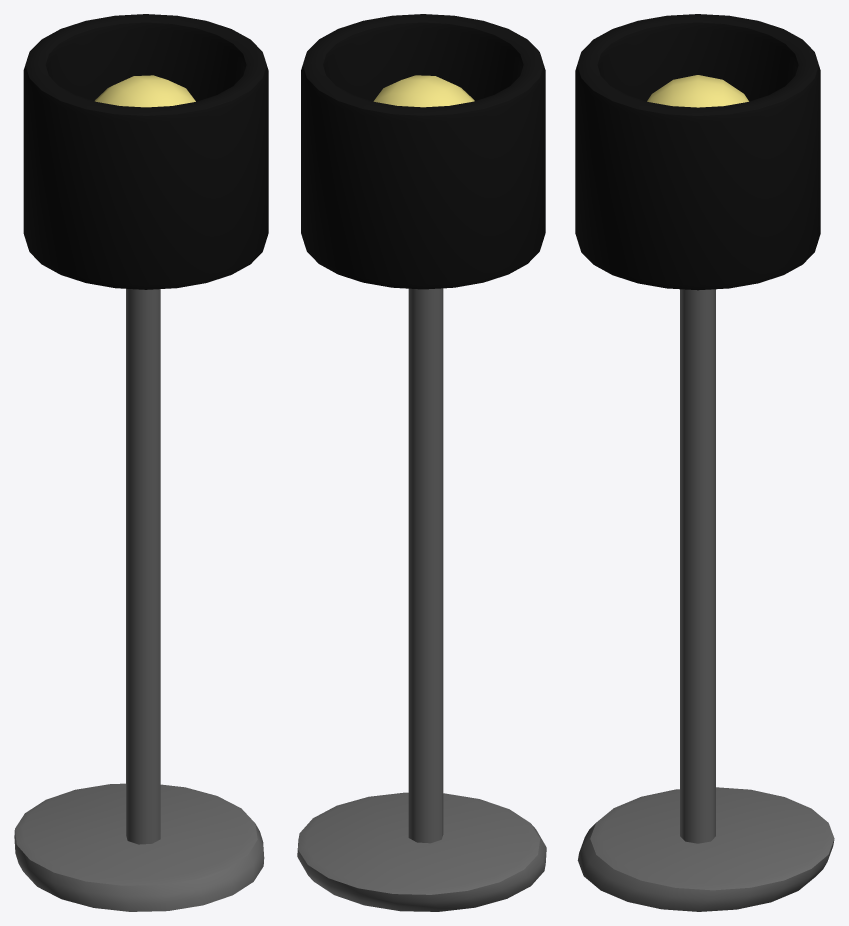
The model's file is SM_lamp_04.fbx.
3 renders of one model, left to right at view 1: azimuth 30°, elevation 25°; view 2: azimuth 150°, elevation 25°; view 3: azimuth 270°, elevation 25°, orthographic.
Parts seen in each view (by area): view 1: Cylinder002; view 2: Cylinder002; view 3: Cylinder002.
Boxes of the visible parts, x1,y1,x2,y2 form: Cylinder002: [14, 14, 268, 911]; Cylinder002: [297, 14, 546, 911]; Cylinder002: [575, 14, 834, 911].
Bounding box in the file's own units: 24.3 × 85.56 × 25.09.
